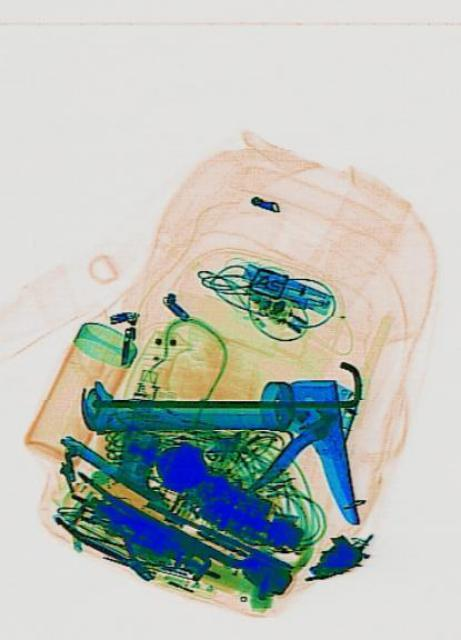Pliers: (54, 476, 164, 596)
